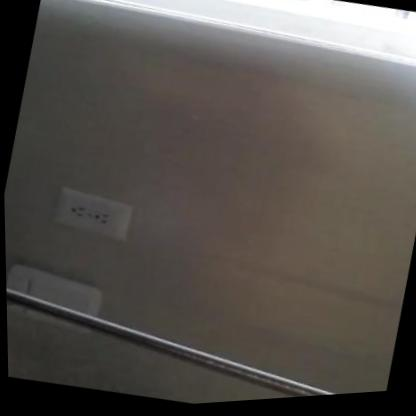OUTLET: (50, 182, 134, 244)
